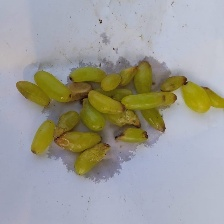grapes: (29, 25, 217, 164)
